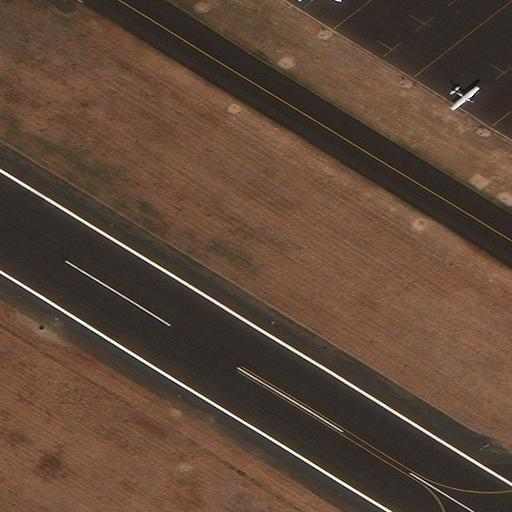Small Civil Transport: (452, 88, 480, 110)
